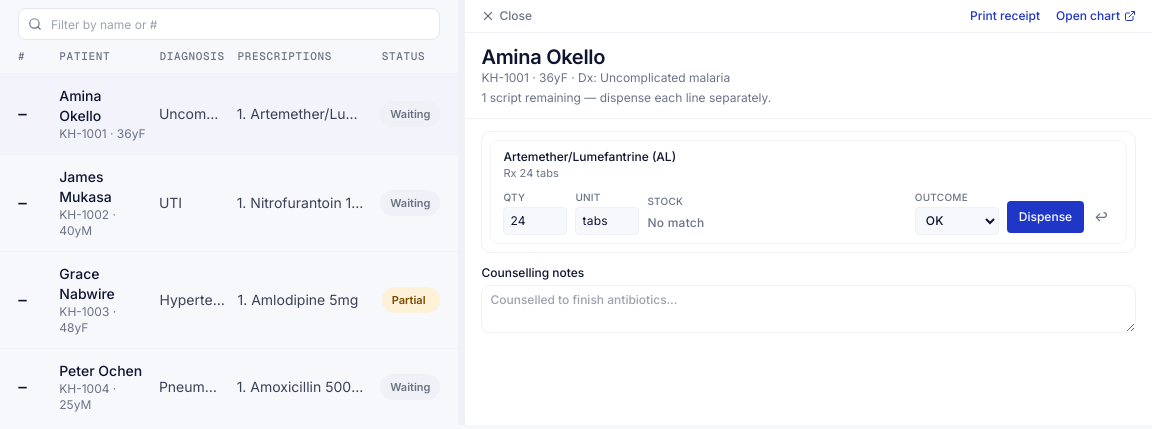
it: PharmacyStationClient › PHARM-2: switching to a different visit still resets the worksheet
Expected: the element with test id "rx-line-rx-visit-e2e-001-0" is shown, [490,140,1127,244]
Replace the text in the number field labelled "Qty" with "5" at (535, 220), box [503,206,567,234]
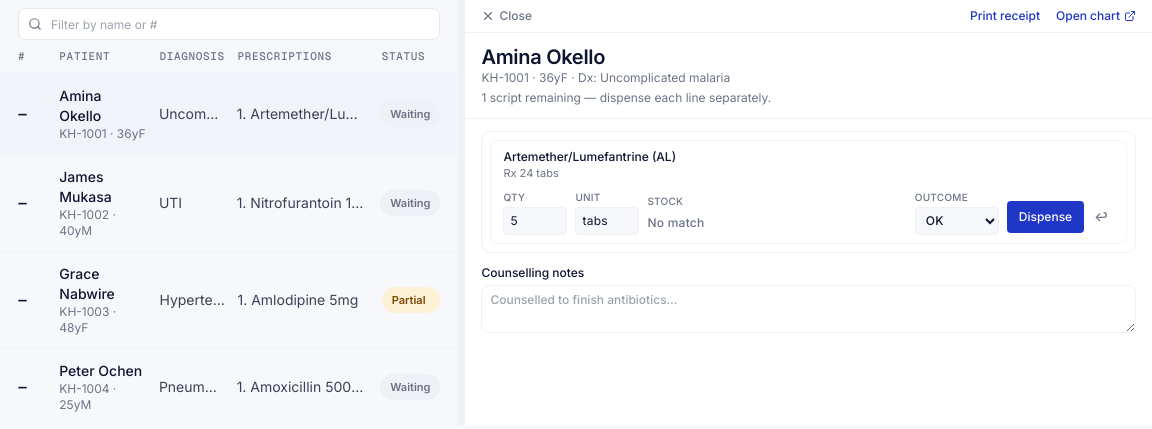
// Move to visit 2, then back to visit 1 — drafts reseed per visit.
Click the button with test id "queue-row-visit-e2e-002" at (81, 176), box [0,154,458,252]
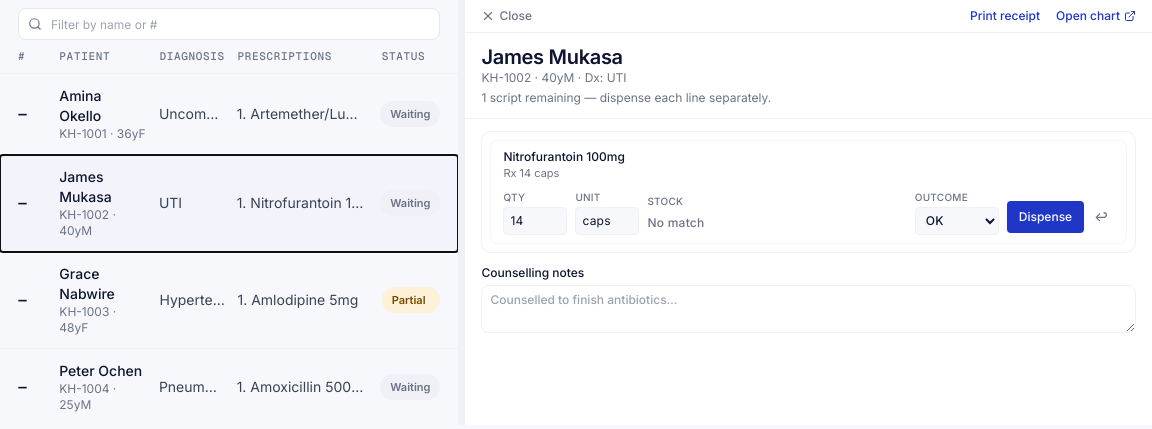
Now the element with test id "rx-line-rx-visit-e2e-002-0" is shown, box [490,140,1127,244]
Click the button with test id "queue-row-visit-e2e-001" at (229, 114), box [0,74,458,154]
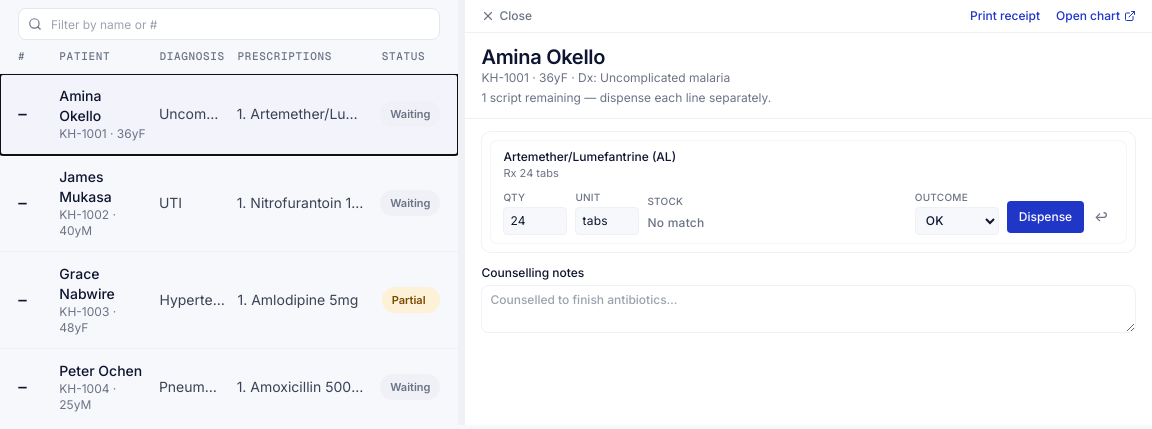
Now the element with test id "rx-line-rx-visit-e2e-001-0" is shown, box [490,140,1127,244]
Now the number field labelled "Qty" holds "24", box [503,206,567,234]
